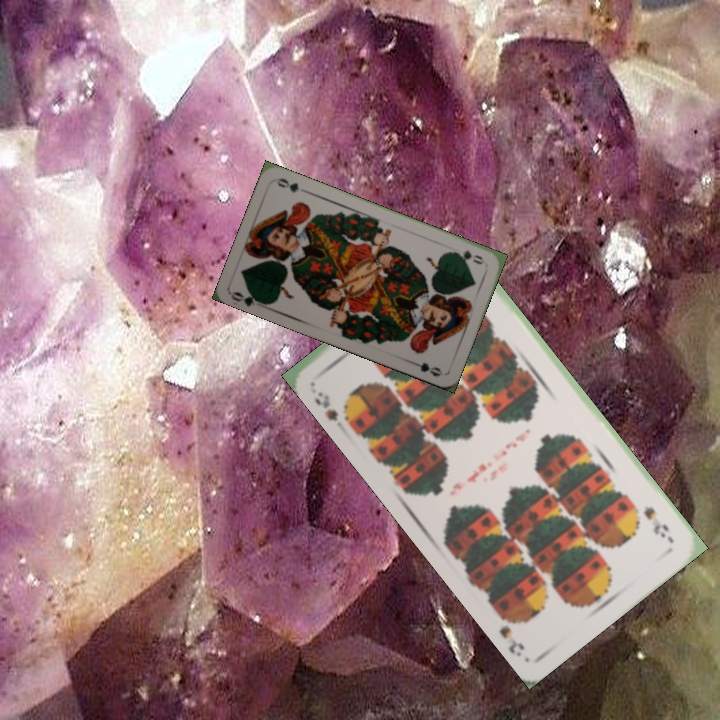GO: (228, 286, 269, 308), (448, 245, 487, 267)
S9: (310, 387, 357, 428), (639, 501, 676, 545)
